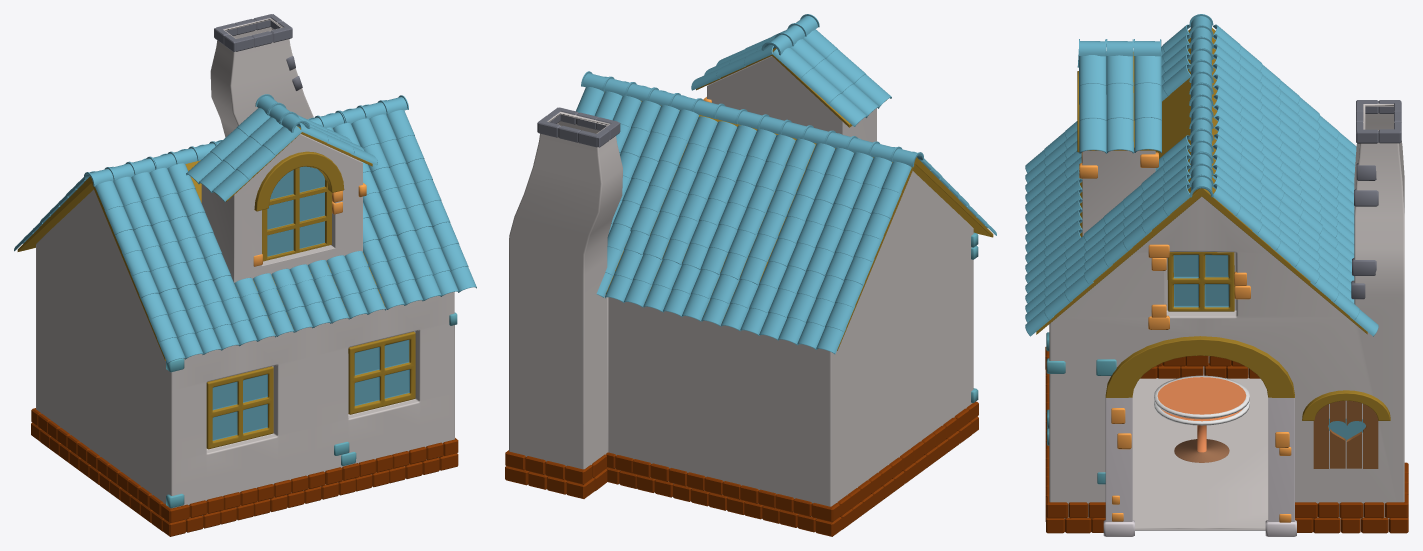
The model's file is Rumah2.fbx.
The picture shows the model from 3 angles, left to right: view 1: azimuth 30°, elevation 25°; view 2: azimuth 150°, elevation 25°; view 3: azimuth 270°, elevation 25°; orthographic projection. The views are drawn at different scales.
Visible parts, largest first — view 1: Cylinder.001; view 2: Cylinder.001; view 3: Cylinder.001.
Part boxes in pixels (x1,y1,x2,y2): Cylinder.001: (14, 14, 476, 536); Cylinder.001: (505, 14, 996, 536); Cylinder.001: (1025, 14, 1408, 536).
Size of the model in its own units: 352 by 395 by 331.
